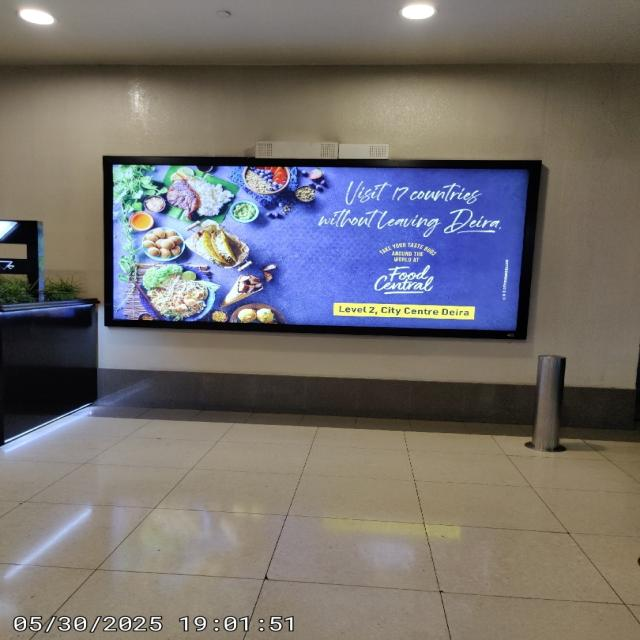digital-board-medium: (101, 159, 542, 336)
